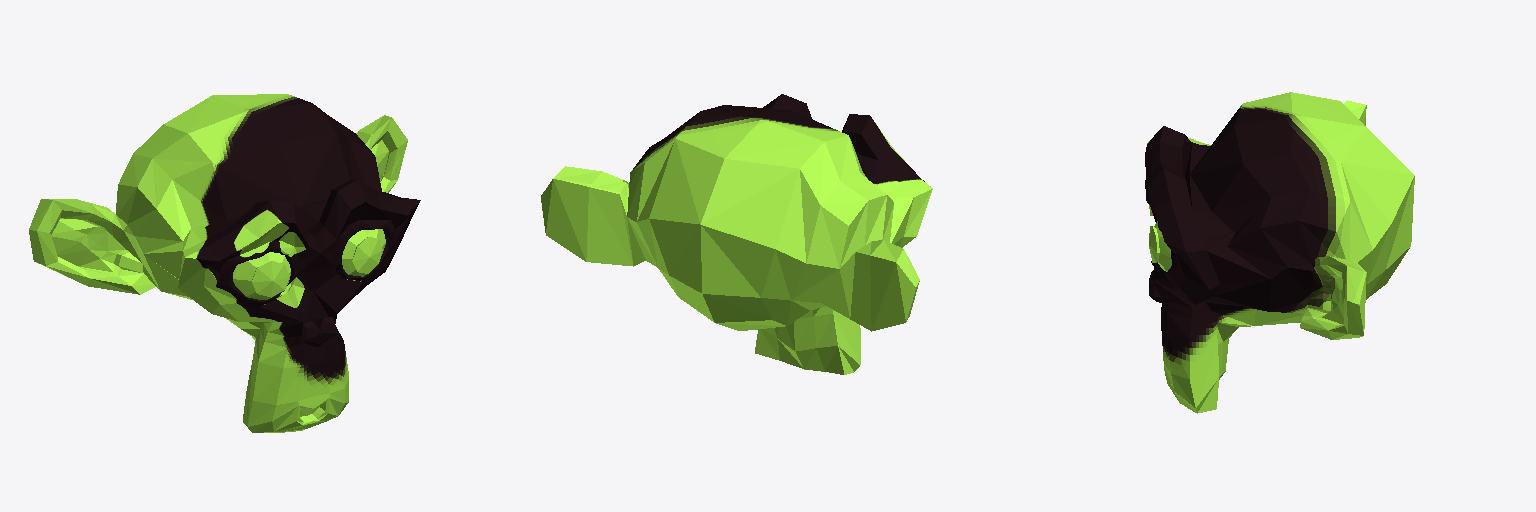
3 views of the same model, side by side, from view 1: azimuth 30°, elevation 25°; view 2: azimuth 150°, elevation 25°; view 3: azimuth 270°, elevation 25° (orthographic).
Parts seen in each view (by area): view 1: Suzanne; view 2: Suzanne; view 3: Suzanne.
Part boxes in pixels (bbox=[...]): Suzanne: bbox=[29, 94, 420, 432]; Suzanne: bbox=[541, 94, 932, 374]; Suzanne: bbox=[1145, 92, 1414, 413].
Size of the model in its own units: 2.73 by 1.97 by 1.7.
1 materials, 1 textured.